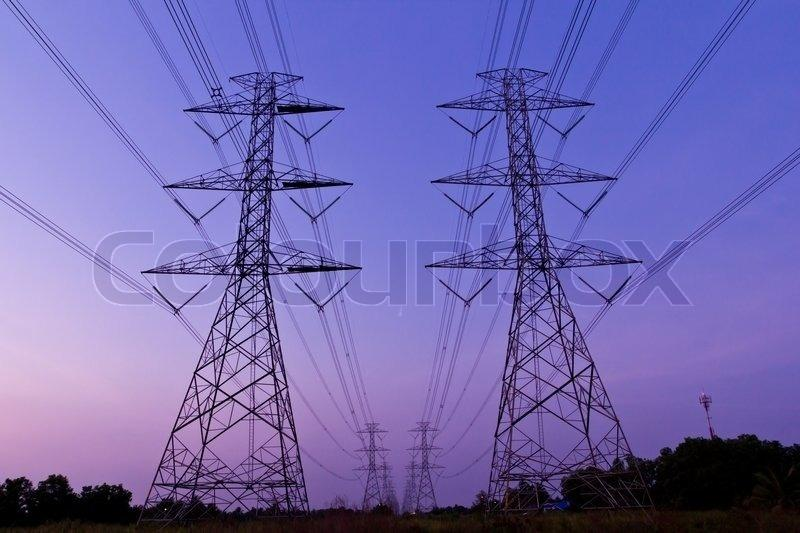power_tower: (441, 67, 664, 515), (144, 61, 333, 518), (340, 410, 394, 522), (407, 409, 445, 520)
